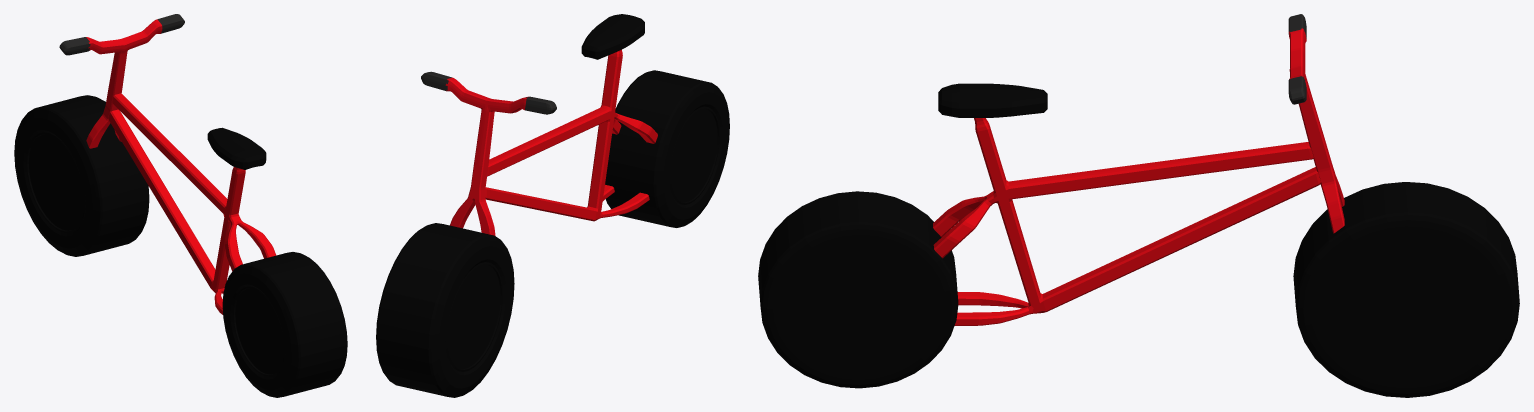
The picture shows the model from 3 angles, left to right: view 1: azimuth 30°, elevation 25°; view 2: azimuth 150°, elevation 25°; view 3: azimuth 270°, elevation 25°; orthographic projection. The views are drawn at different scales.
Parts seen in each view (by area): view 1: Cylinder.001, Cylinder.002, Frame, Handle, Saddle; view 2: Cylinder.001, Cylinder.002, Frame, Handle, Saddle; view 3: Cylinder.001, Cylinder.002, Frame, Handle, Saddle.
Boxes of the visible parts, <box> form: Cylinder.001: <box>14,95,149,256</box>; Cylinder.002: <box>222,252,347,397</box>; Frame: <box>108,93,276,314</box>; Handle: <box>59,14,184,148</box>; Saddle: <box>207,127,266,169</box>; Cylinder.001: <box>376,223,514,397</box>; Cylinder.002: <box>605,70,729,227</box>; Frame: <box>485,49,657,221</box>; Handle: <box>421,71,556,235</box>; Saddle: <box>581,14,644,59</box>; Cylinder.001: <box>1293,182,1519,397</box>; Cylinder.002: <box>758,191,958,388</box>; Frame: <box>933,118,1320,325</box>; Handle: <box>1288,14,1344,233</box>; Saddle: <box>938,83,1047,117</box>.
Bounding box in the file's own units: 149 × 289 × 601.
